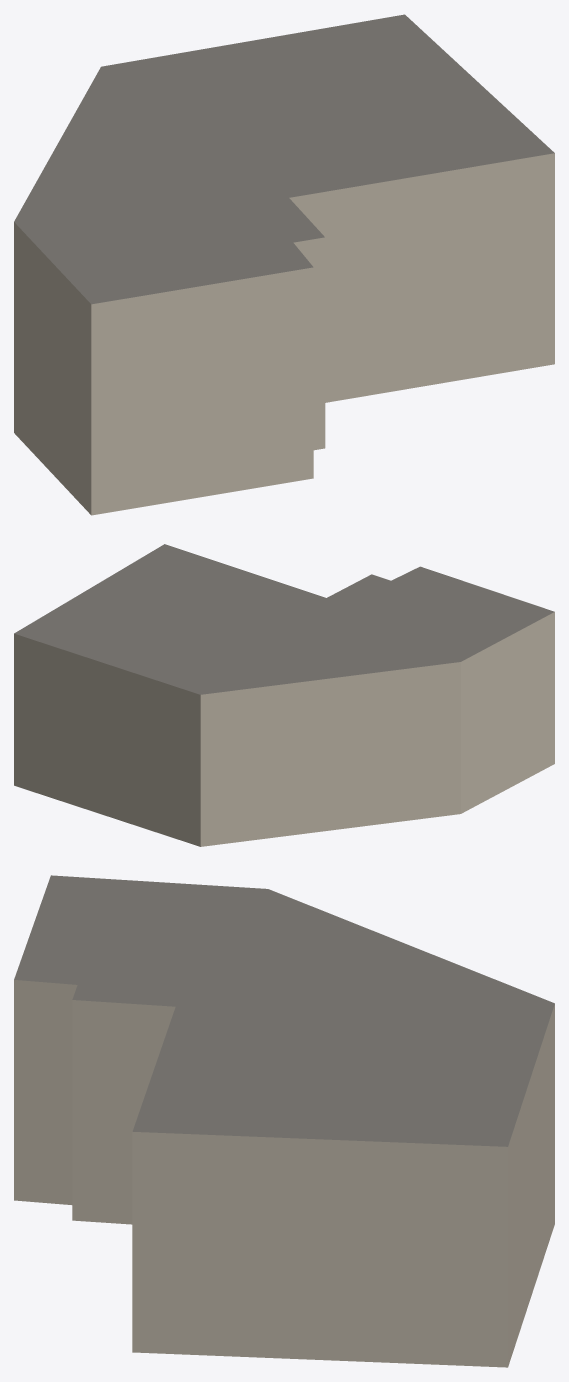
3 views of the same model, one above another, from view 1: azimuth 30°, elevation 25°; view 2: azimuth 150°, elevation 25°; view 3: azimuth 270°, elevation 25° (orthographic). The views are drawn at different scales.
Parts seen in each view (by area): view 1: HP-w380340024; view 2: HP-w380340024; view 3: HP-w380340024.
Boxes of the visible parts, left/top/right/bottom form: HP-w380340024: left=14, top=14, right=554, bottom=515; HP-w380340024: left=14, top=544, right=554, bottom=846; HP-w380340024: left=14, top=875, right=554, bottom=1367.
Size of the model in its own units: 47.49 by 18 by 39.99.
